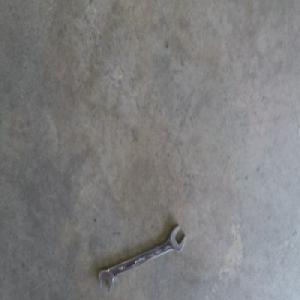Wrench: (97, 226, 185, 290)
